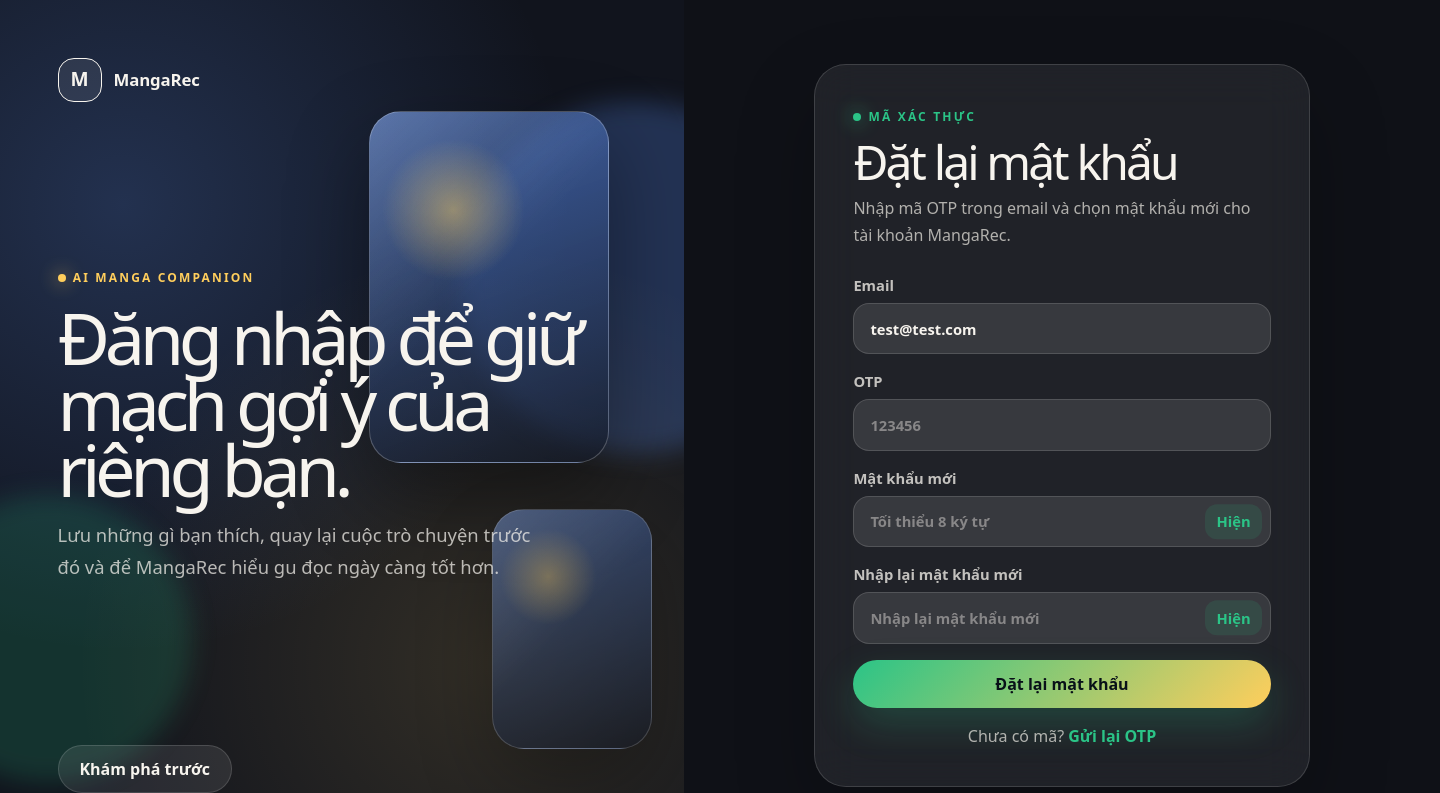
Test case: ResetPassword › handles invalid email
The image size is (1440, 793).
Replace the text in the field labelled "Email" with "invalid" at (1062, 329), box [853,303,1271,354]
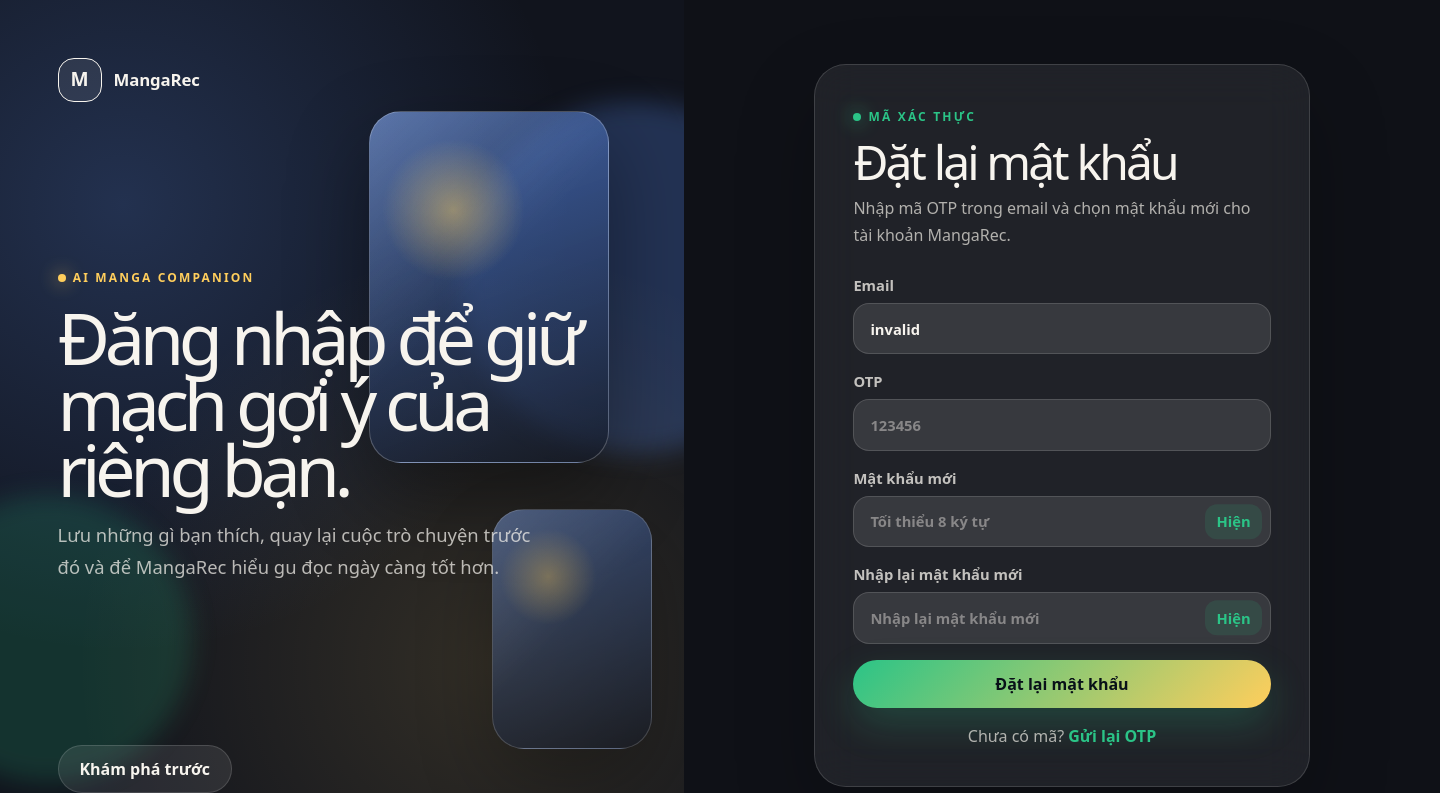
Submit the form "Đặt lại mật khẩu", box [853,274,1271,708]
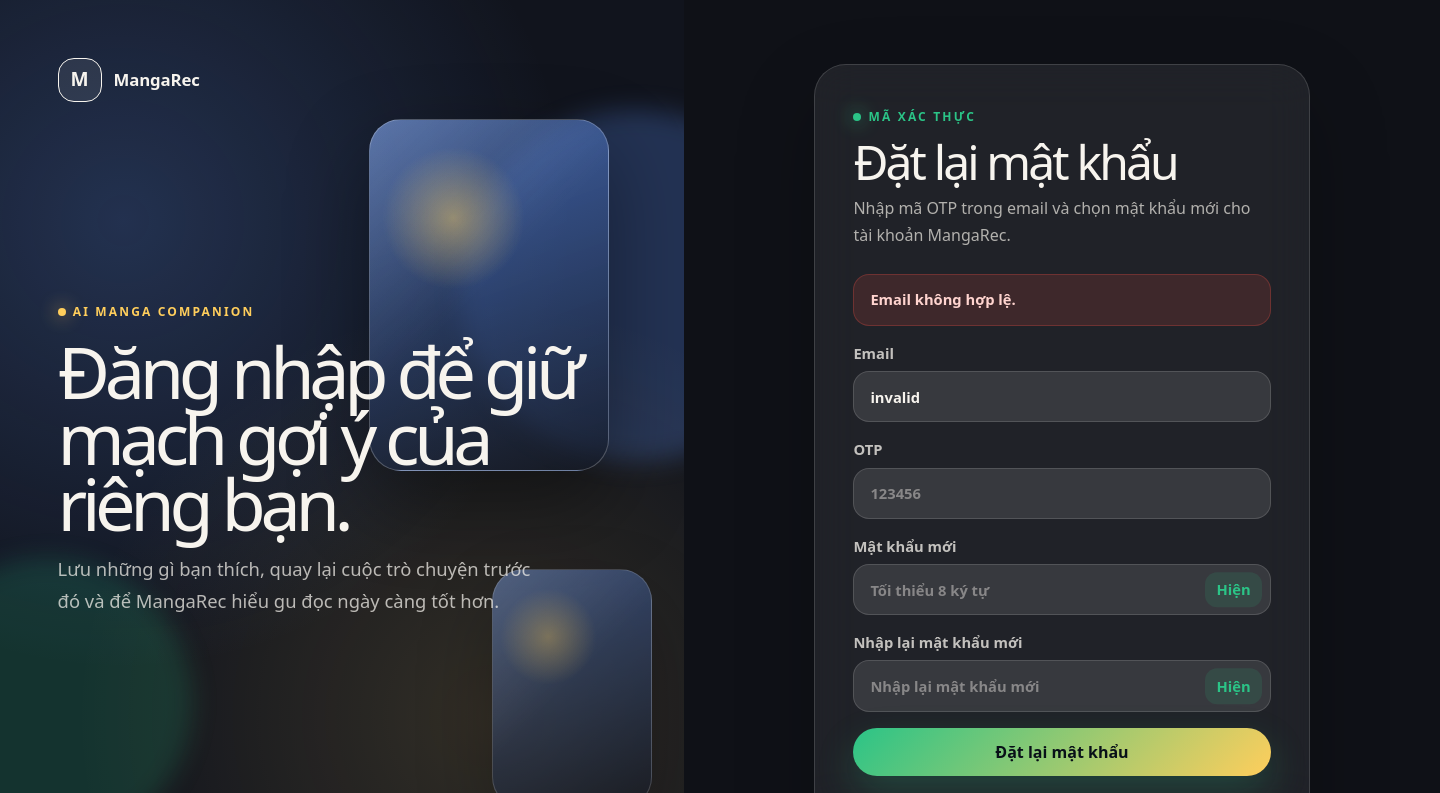
Now the text "Email không hợp lệ." is shown, box [853,274,1271,326]
